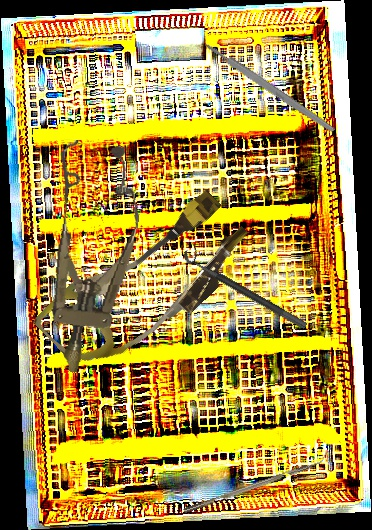Cannula: (31, 170, 262, 397)
Chopper: (180, 451, 332, 514)
Fixation Ring: (180, 241, 314, 331)
Scalpel Handle: (202, 40, 338, 135)
Speculum: (28, 137, 149, 379)
